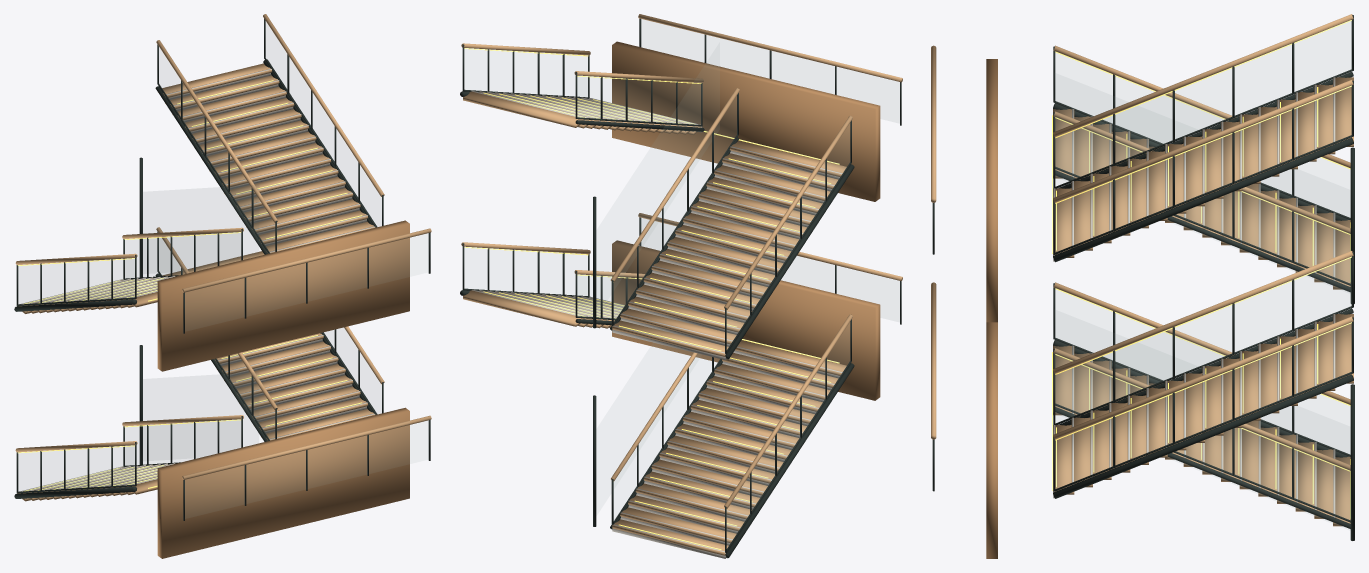
File: headquarters-stair-system-v1.glb
3 renders of one model, left to right at view 1: azimuth 30°, elevation 25°; view 2: azimuth 150°, elevation 25°; view 3: azimuth 270°, elevation 25°, orthographic. The views are drawn at different scales.
Visible parts, largest first — view 1: Stair_wood, Stair_wood_light, Stair_stone, Stair_metal, Stair_glass, Stair_led; view 2: Stair_wood_light, Stair_wood, Stair_stone, Stair_metal, Stair_led, Stair_glass; view 3: Stair_wood_light, Stair_glass, Stair_metal, Stair_stone, Stair_wood, Stair_led.
Part boxes in pixels (<box>): Stair_wood: <box>157,220,409,558</box>; Stair_wood_light: <box>15,14,431,501</box>; Stair_stone: <box>18,68,374,492</box>; Stair_metal: <box>14,18,430,520</box>; Stair_glass: <box>124,185,259,465</box>; Stair_led: <box>17,80,362,491</box>; Stair_wood_light: <box>461,14,902,555</box>; Stair_wood: <box>612,41,880,400</box>; Stair_stone: <box>471,90,842,558</box>; Stair_metal: <box>460,18,901,558</box>; Stair_led: <box>464,48,839,549</box>; Stair_glass: <box>577,42,719,488</box>; Stair_wood_light: <box>931,14,1353,526</box>; Stair_glass: <box>1055,73,1350,519</box>; Stair_metal: <box>932,15,1354,540</box>; Stair_stone: <box>1053,77,1335,517</box>; Stair_wood: <box>986,59,997,558</box>; Stair_led: <box>1052,20,1351,518</box>.
Size of the model in its own units: 5.95 by 9.53 by 6.82.
